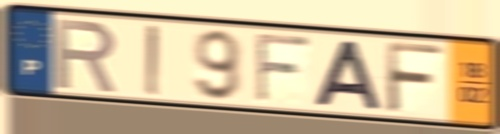9: (191, 27, 244, 103)
A: (311, 37, 386, 113)
F: (383, 39, 446, 117), (253, 30, 313, 105)
I: (143, 22, 163, 99)
R: (52, 15, 120, 94)
